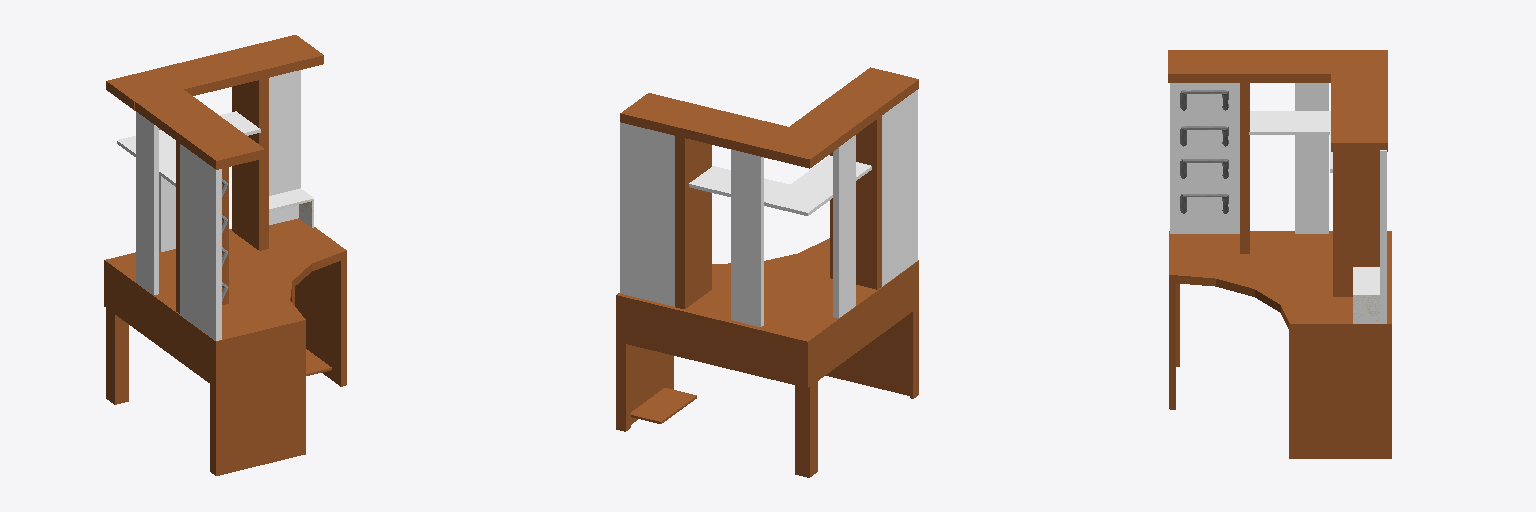
The model's file is cornerdesk.obj.
3 renders of one model, left to right at view 1: azimuth 30°, elevation 25°; view 2: azimuth 150°, elevation 25°; view 3: azimuth 270°, elevation 25°, orthographic.
Parts seen in each view (by area): view 1: table_14, paneau_support_doc_3, tableau_blc_4, montant_blc_1_1, etagere_5, montant_blc_1_1_2, Cube_15_11; view 2: table_14, tableau_blc_4, paneau_support_doc_3, montant_blc_1_1_2, montant_blc_1_1, etagere_5, tablette_tour_6; view 3: table_14, paneau_support_doc_3, montant_blc_1_1, etagere_5, tableau_blc_4, Cube_15_11, Cube_15_1_12.
Part boxes in pixels (bbox=[...]): table_14: bbox=[104, 35, 346, 475]; paneau_support_doc_3: bbox=[180, 144, 221, 340]; tableau_blc_4: bbox=[269, 70, 300, 224]; montant_blc_1_1: bbox=[136, 112, 158, 294]; etagere_5: bbox=[117, 111, 260, 186]; montant_blc_1_1_2: bbox=[159, 128, 175, 251]; Cube_15_11: bbox=[269, 188, 313, 210]; table_14: bbox=[616, 67, 918, 477]; tableau_blc_4: bbox=[620, 122, 674, 306]; paneau_support_doc_3: bbox=[882, 90, 917, 286]; montant_blc_1_1_2: bbox=[731, 149, 763, 326]; montant_blc_1_1: bbox=[833, 135, 855, 318]; etagere_5: bbox=[689, 156, 871, 215]; tablette_tour_6: bbox=[631, 388, 696, 423]; table_14: bbox=[1168, 50, 1391, 458]; paneau_support_doc_3: bbox=[1170, 83, 1239, 233]; montant_blc_1_1: bbox=[1295, 83, 1328, 233]; etagere_5: bbox=[1249, 111, 1332, 172]; tableau_blc_4: bbox=[1380, 150, 1386, 323]; Cube_15_11: bbox=[1353, 267, 1379, 296]; Cube_15_1_12: bbox=[1353, 297, 1379, 323].
Size of the model in its own units: 108 by 171 by 109.